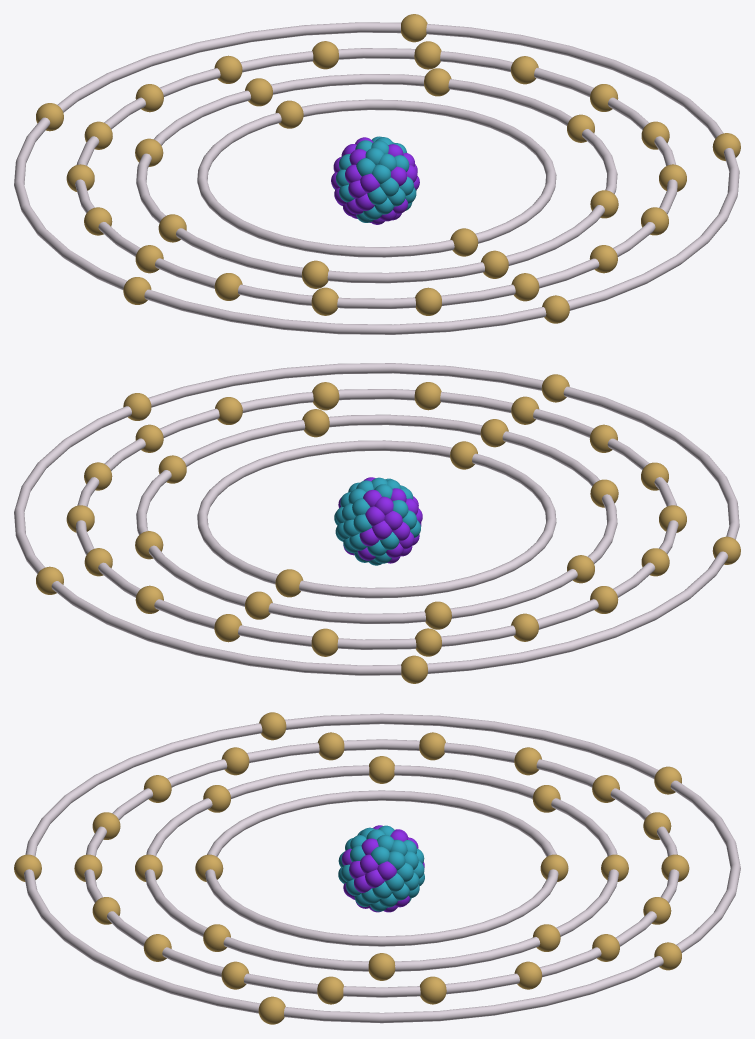
File: arsenio.glb
3 renders of one model, top to bottom at view 1: azimuth 30°, elevation 25°; view 2: azimuth 150°, elevation 25°; view 3: azimuth 270°, elevation 25°, orthographic.
Parts seen in each view (by area): view 1: Orbita_4, Orbita_3, Orbita_2, Orbita_1, Nucleo_Completo, Eletron_C3_8, Eletron_C2_8, Eletron_C3_17, Eletron_C3_9, Eletron_C4_2.001, Eletron_C3_18, Eletron_C2_4 (+26 smaller); view 2: Orbita_4, Orbita_3, Orbita_2, Orbita_1, Nucleo_Completo, Eletron_C4_2.002, Eletron_C3_11, Eletron_C3_3, Eletron_C2_6, Eletron_C3_2, Eletron_C3_12, Eletron_C2_2 (+26 smaller); view 3: Orbita_4, Orbita_3, Orbita_2, Orbita_1, Nucleo_Completo, Eletron_C2_3, Eletron_C3_5, Eletron_C3_6, Eletron_C3_14, Eletron_C3_15, Eletron_C4_2, Eletron_C2_7 (+26 smaller).
Boxes of the visible parts, left/top/right/bottom form: Orbita_4: left=14, top=22, right=739, bottom=334; Orbita_3: left=75, top=48, right=677, bottom=308; Orbita_2: left=136, top=74, right=617, bottom=283; Orbita_1: left=197, top=99, right=556, bottom=257; Nucleo_Completo: left=331, top=136, right=419, bottom=224; Eletron_C3_8: left=414, top=41, right=441, bottom=69; Eletron_C2_8: left=301, top=260, right=328, bottom=288; Eletron_C3_17: left=311, top=287, right=338, bottom=315; Eletron_C3_9: left=312, top=41, right=338, bottom=69; Eletron_C4_2.001: left=401, top=14, right=427, bottom=42; Eletron_C3_18: left=415, top=287, right=441, bottom=315; Eletron_C2_4: left=424, top=68, right=451, bottom=96; Orbita_4: left=14, top=363, right=739, bottom=675; Orbita_3: left=76, top=389, right=678, bottom=649; Orbita_2: left=136, top=414, right=617, bottom=623; Orbita_1: left=197, top=440, right=556, bottom=598; Nucleo_Completo: left=334, top=477, right=422, bottom=565; Eletron_C4_2.002: left=401, top=655, right=427, bottom=683; Eletron_C3_11: left=311, top=628, right=338, bottom=656; Eletron_C3_3: left=312, top=382, right=339, bottom=410; Eletron_C2_6: left=424, top=601, right=451, bottom=629; Eletron_C3_2: left=414, top=382, right=441, bottom=410; Eletron_C3_12: left=415, top=628, right=441, bottom=656; Eletron_C2_2: left=302, top=409, right=329, bottom=437; Orbita_4: left=24, top=713, right=740, bottom=1023; Orbita_3: left=84, top=739, right=679, bottom=997; Orbita_2: left=144, top=765, right=618, bottom=971; Orbita_1: left=205, top=790, right=558, bottom=946; Nucleo_Completo: left=338, top=825, right=424, bottom=912; Eletron_C2_3: left=368, top=953, right=395, bottom=980; Eletron_C3_5: left=317, top=976, right=343, bottom=1004; Eletron_C3_6: left=420, top=976, right=446, bottom=1004; Eletron_C3_14: left=419, top=732, right=445, bottom=760; Eletron_C3_15: left=317, top=732, right=344, bottom=760; Eletron_C4_2: left=258, top=996, right=285, bottom=1024; Eletron_C2_7: left=369, top=756, right=394, bottom=783.
Bounding box in the file's own units: 4.16 × 0.5068 × 4.21.
